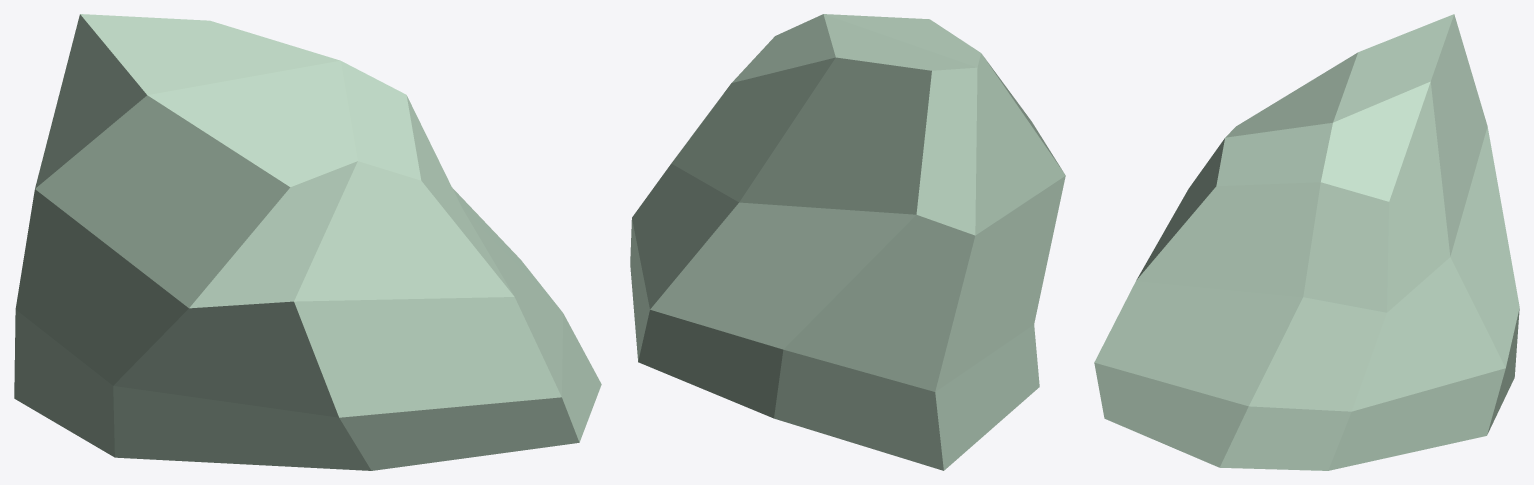
File: BigRock2Color.fbx
3 views of the same model, side by side, from view 1: azimuth 30°, elevation 25°; view 2: azimuth 150°, elevation 25°; view 3: azimuth 270°, elevation 25° (orthographic). The views are drawn at different scales.
Visible parts, largest first — view 1: BigRock2; view 2: BigRock2; view 3: BigRock2.
Boxes of the visible parts, x1,y1,x2,y2 form: BigRock2: [14, 14, 601, 470]; BigRock2: [630, 14, 1065, 470]; BigRock2: [1094, 14, 1519, 470].
Bounding box in the file's own units: 1400 × 1197 × 1407.
